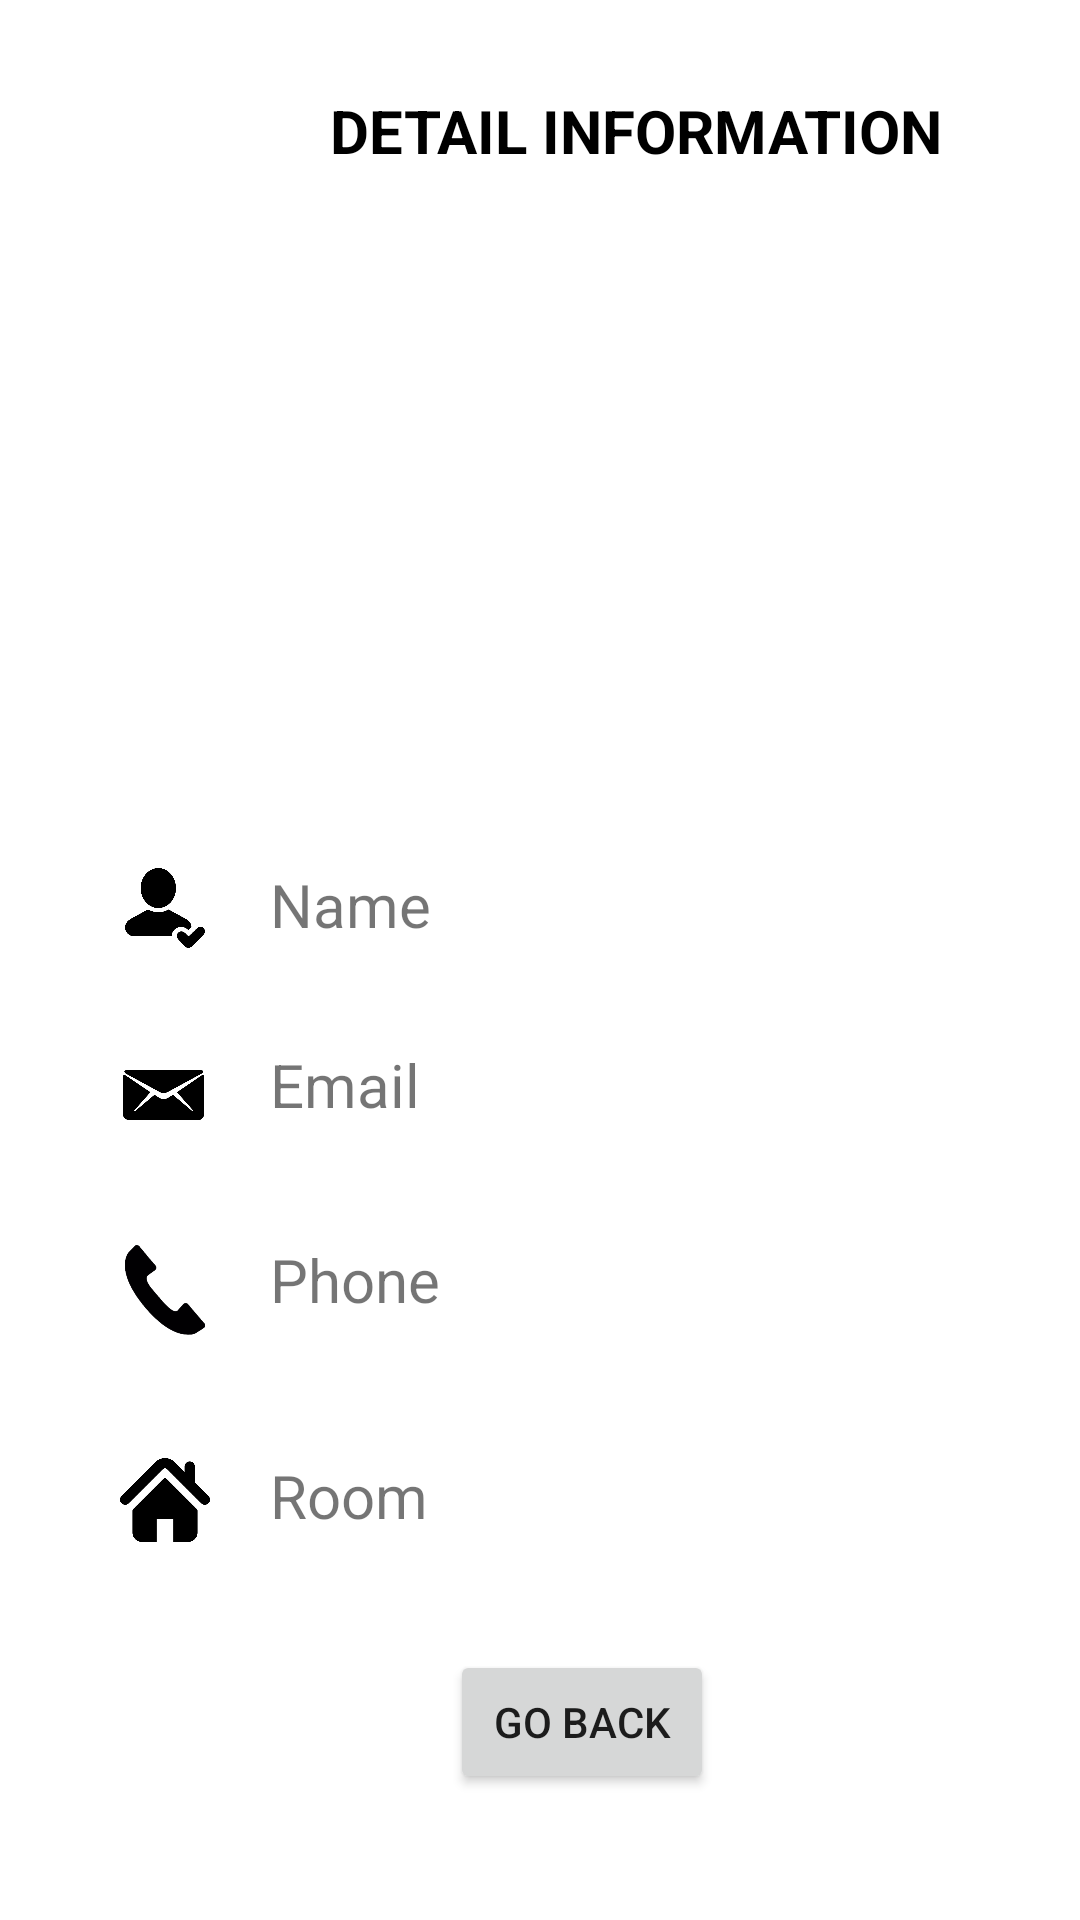

Screen size 1080*1920. Icon name, then its box in pixels as bbox(x1, y1, x2, y2):
home: bbox(120, 1458, 210, 1542)
user: bbox(125, 868, 205, 948)
